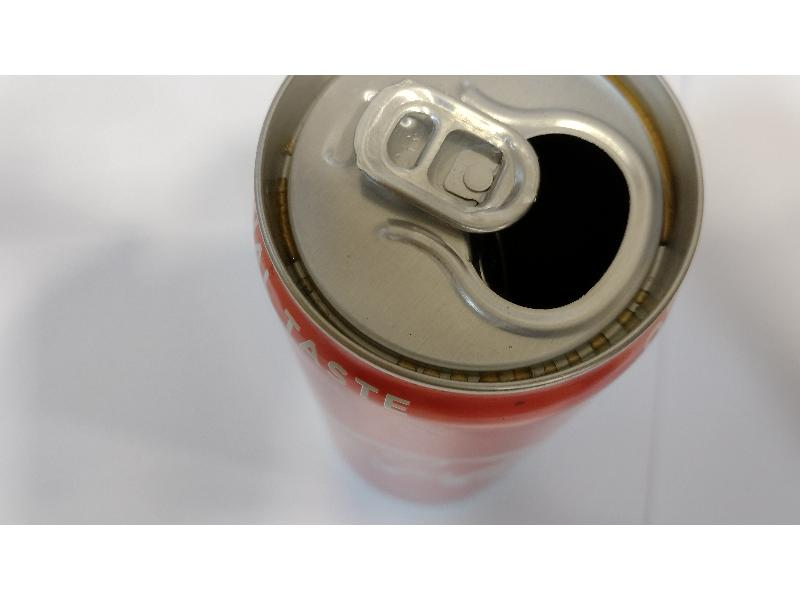can: (252, 73, 709, 436)
